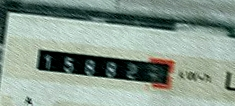1: (42, 51, 53, 68)
2: (125, 60, 137, 78)
5: (63, 54, 75, 71)
7: (147, 69, 157, 81)
8: (104, 58, 116, 77), (84, 57, 95, 74)
screen: (29, 38, 180, 94)
